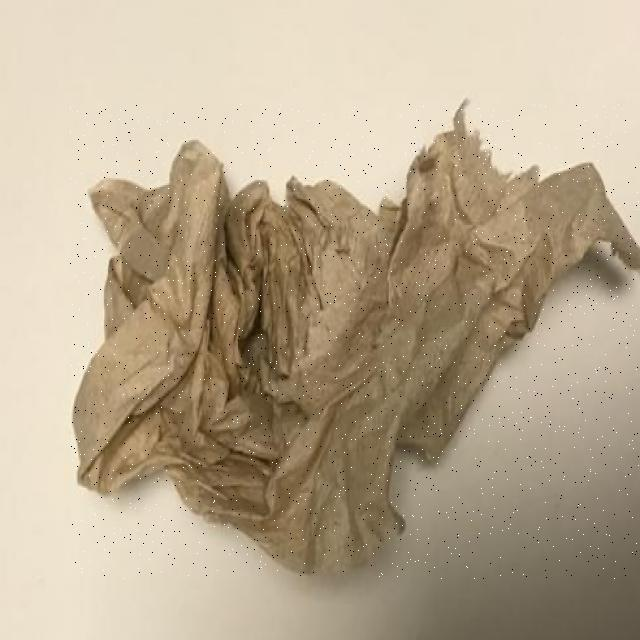paper: (70, 104, 640, 579)
